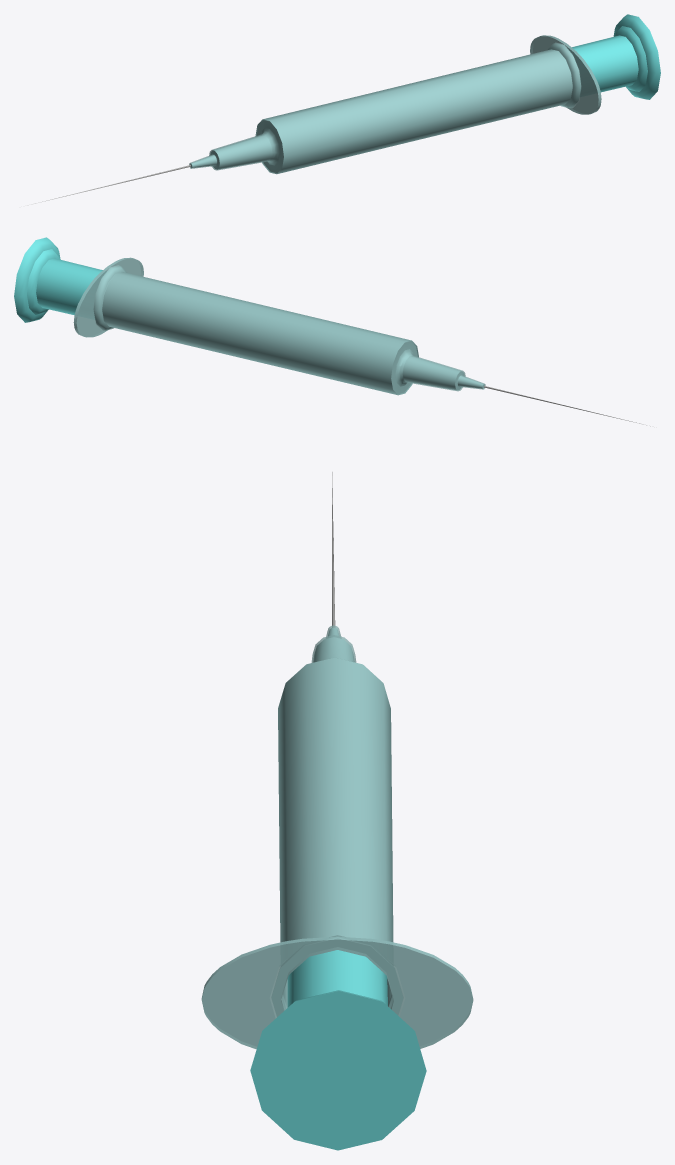
File: Syringe_Animated.fbx
The picture shows the model from 3 angles, top to bottom: view 1: azimuth 30°, elevation 25°; view 2: azimuth 150°, elevation 25°; view 3: azimuth 270°, elevation 25°; orthographic projection. The views are drawn at different scales.
Parts seen in each view (by area): view 1: sy_Shape_2, sy_Shape_1; view 2: sy_Shape_2, sy_Shape_1; view 3: sy_Shape_2, sy_Shape_1.
Boxes of the visible parts, x1,y1,x2,y2 form: sy_Shape_2: [27, 35, 601, 205]; sy_Shape_1: [572, 14, 660, 99]; sy_Shape_2: [73, 257, 650, 426]; sy_Shape_1: [14, 237, 102, 322]; sy_Shape_2: [201, 472, 473, 1049]; sy_Shape_1: [250, 950, 426, 1150].
Bounding box in the file's own units: 33.56 × 4.11 × 6.32.
